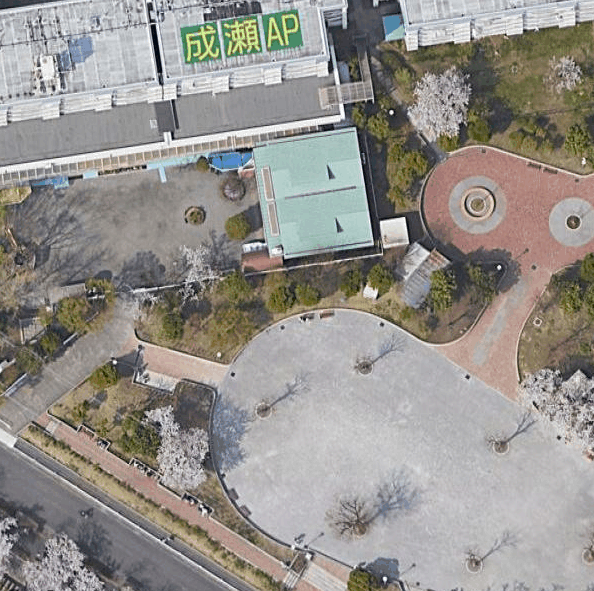flatroof: (9, 0, 332, 94)
